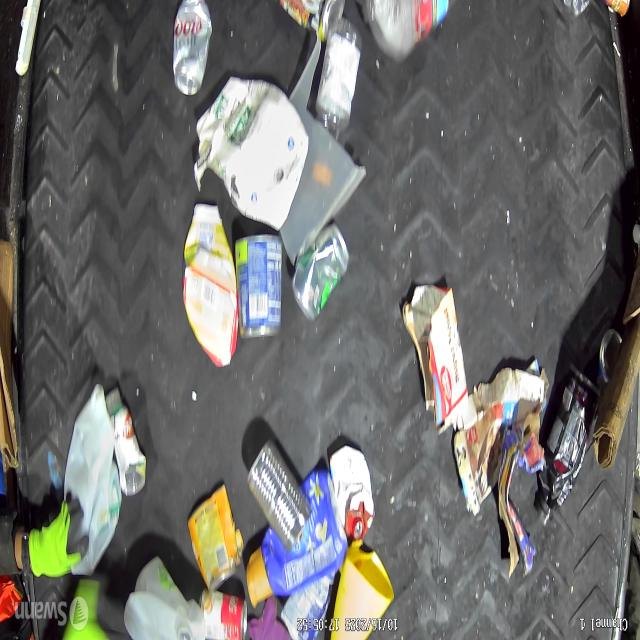can: (247, 434, 312, 555), (295, 225, 351, 325), (234, 231, 282, 340), (188, 485, 236, 592), (174, 0, 208, 95), (198, 587, 248, 640)
milk_jug: (71, 392, 126, 578), (123, 557, 206, 640)
non_white_jug: (247, 524, 346, 611)
plastic_bottle: (320, 22, 359, 147)
